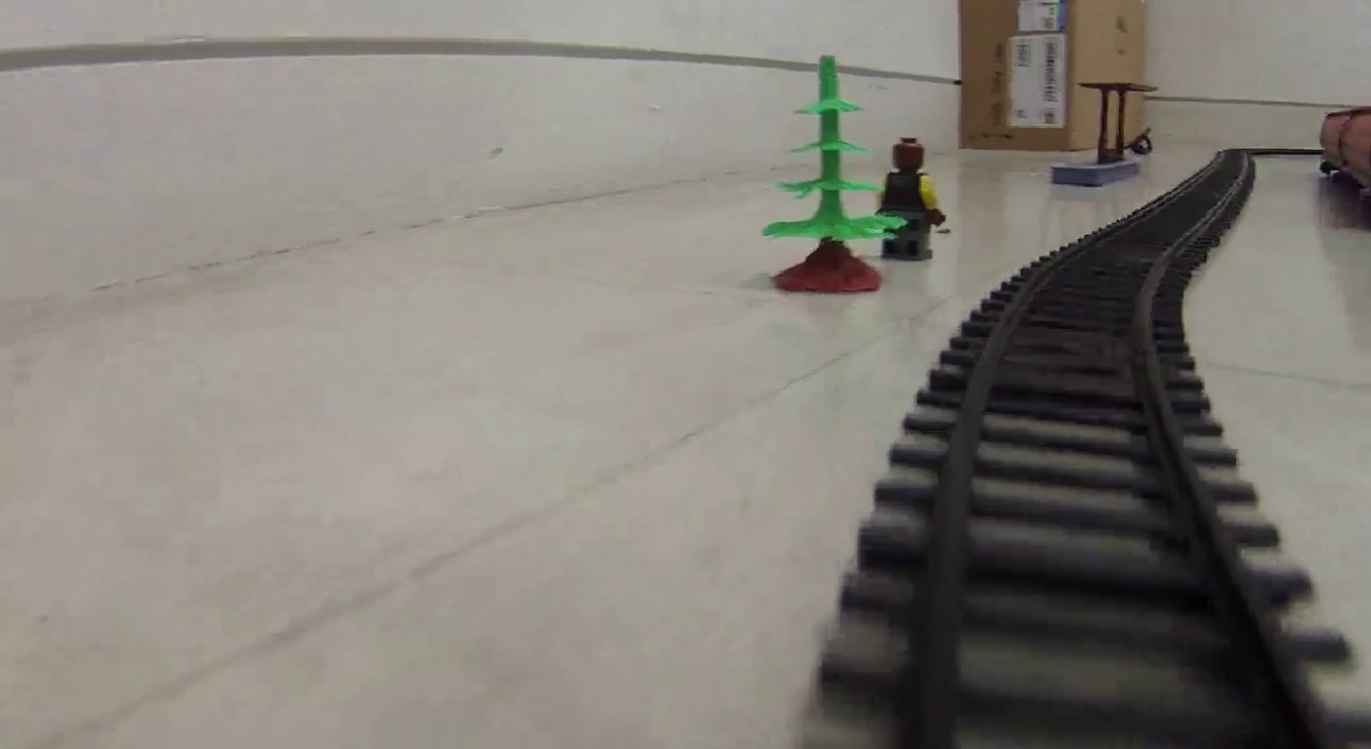people: (879, 138, 943, 264)
tree: (758, 54, 905, 294)
